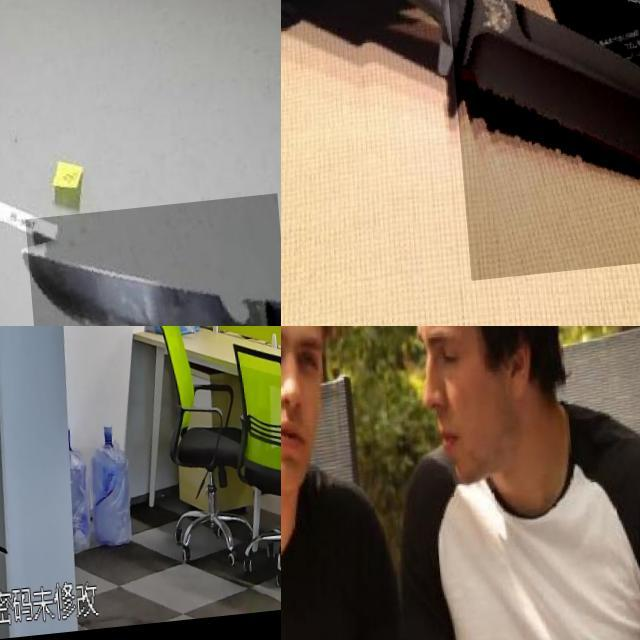-: (440, 0, 640, 287), (17, 202, 281, 326), (281, 543, 327, 640)
gun-knife-thesis - v11 Yolov5 augmented: (0, 456, 17, 537)
